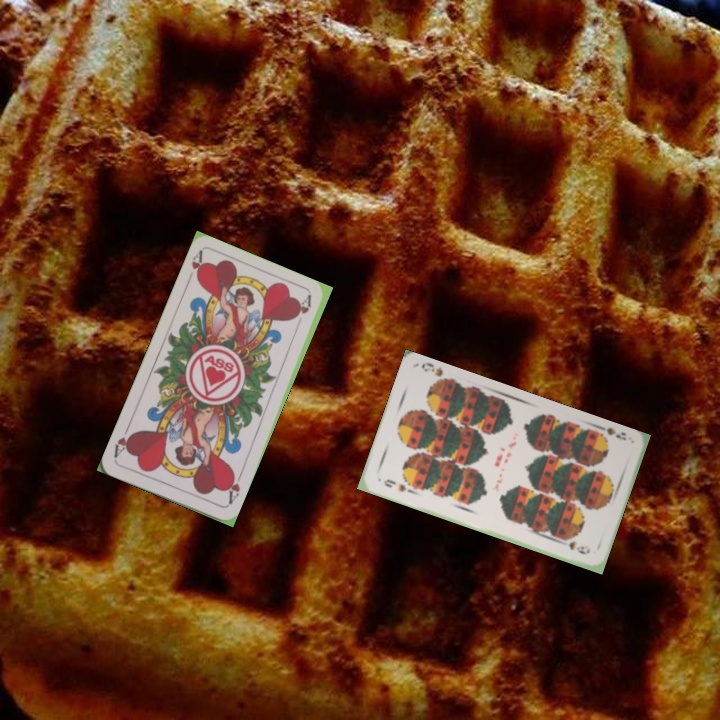HA: (183, 247, 208, 287), (222, 467, 245, 508)
S9: (592, 421, 629, 444), (379, 475, 416, 495)
